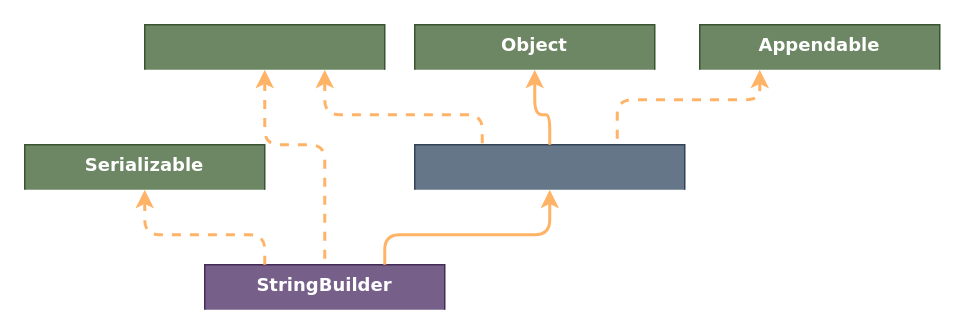
Image size: 965x335. Some labels were removed from this diagram. Each missing label, with the centre of its shape:
"AbstractStringBuilder" belongs at (549,166).
"CharSequence" belongs at (264,46).
